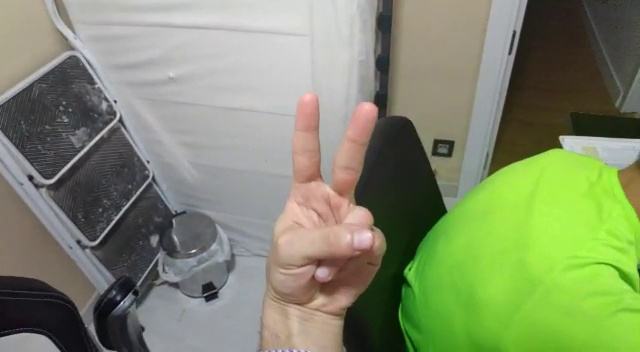Peace: (253, 92, 400, 320)
